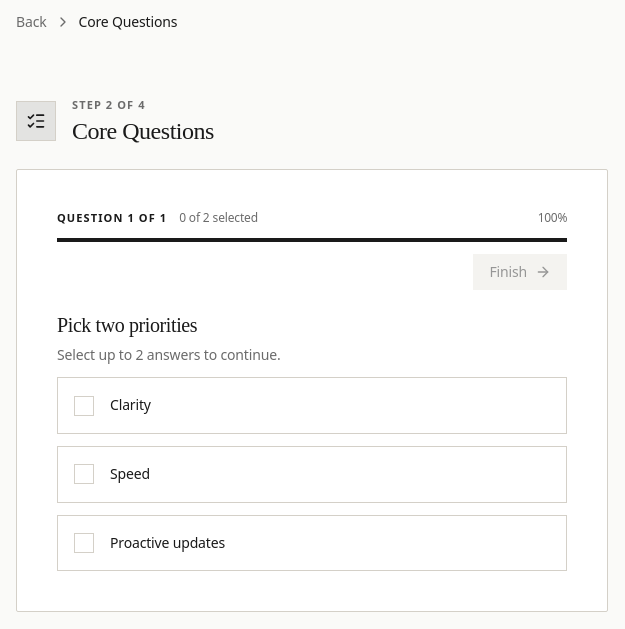
it: question flow supports multi-select before completion
Check: the text "0 of 2 selected" is shown, box top-left (179, 210), bottom-right (258, 226)
Check: the button "Finish" is disabled, box top-left (474, 254), bottom-right (567, 290)
Click the button "Clarity".
click(130, 405)  # box top-left (57, 377), bottom-right (567, 434)
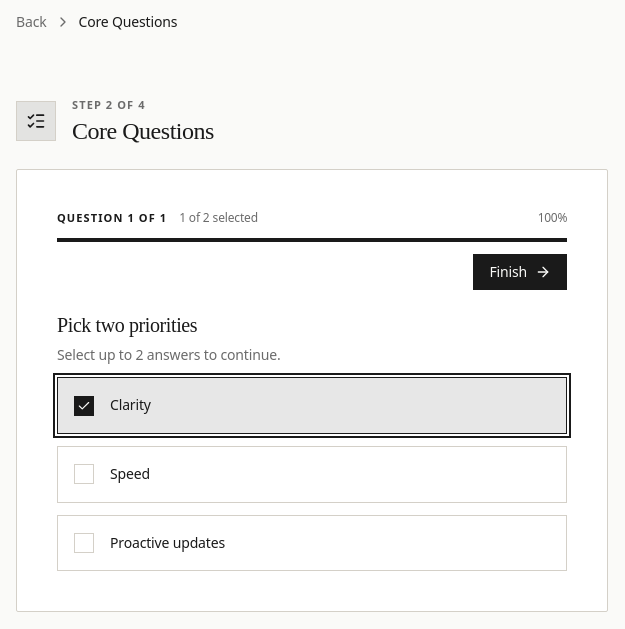
Check: the link "Finish" is shown, box top-left (474, 254), bottom-right (567, 290)
Check: the text "1 of 2 selected" is shown, box top-left (179, 210), bottom-right (258, 226)
Click the button "Speed".
click(130, 473)  # box top-left (57, 446), bottom-right (567, 503)
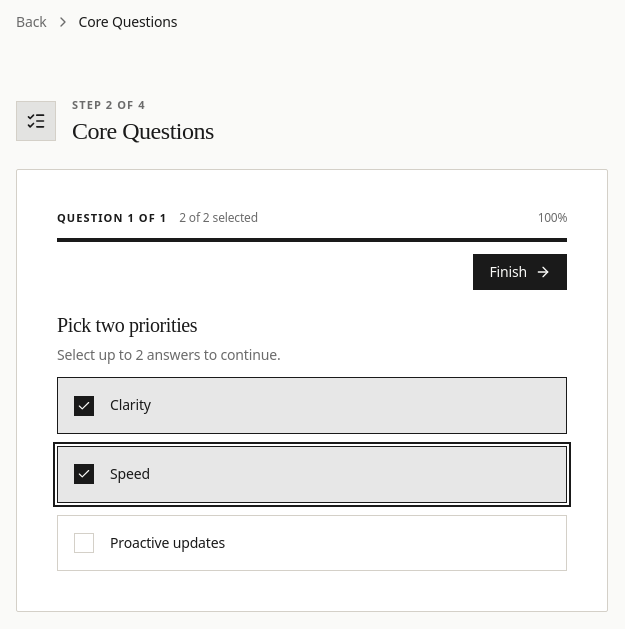
Check: the text "100%" is shown, box top-left (538, 210), bottom-right (567, 226)
Check: the text "2 of 2 selected" is shown, box top-left (179, 210), bottom-right (258, 226)
